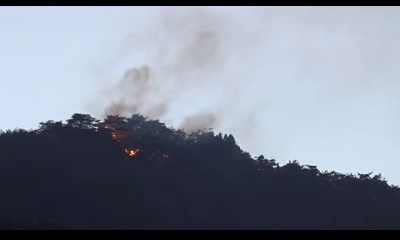smoke: (122, 32, 240, 124)
